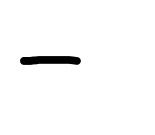minus: (20, 56, 81, 66)
